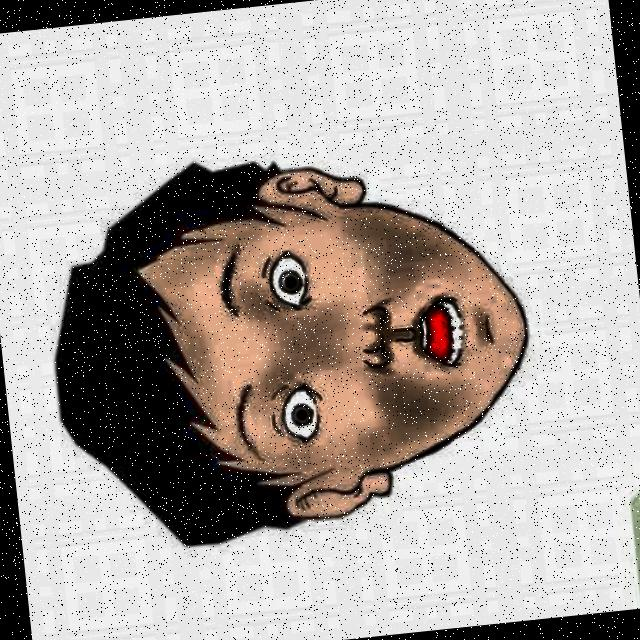surprised: (33, 114, 564, 559)
